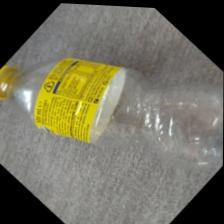plastic: (0, 4, 222, 223)
